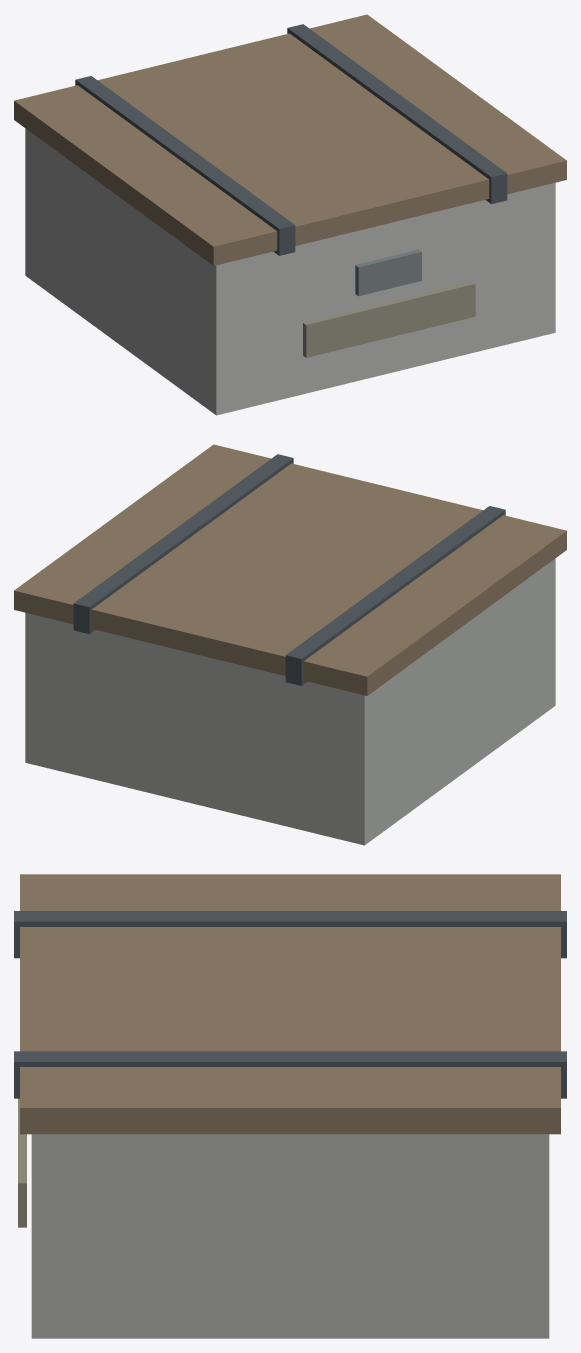
Rendered from medicine_crate.glb.
The picture shows the model from 3 angles, top to bottom: view 1: azimuth 30°, elevation 25°; view 2: azimuth 150°, elevation 25°; view 3: azimuth 270°, elevation 25°; orthographic projection. The views are drawn at different scales.
Parts seen in each view (by area): view 1: medicine_crate; view 2: medicine_crate; view 3: medicine_crate.
Part boxes in pixels (x1,y1,x2,y2): medicine_crate: (14,14,566,415); medicine_crate: (14,444,566,845); medicine_crate: (14,874,566,1338).
Bounding box in the file's own units: 1 × 0.48 × 1.
